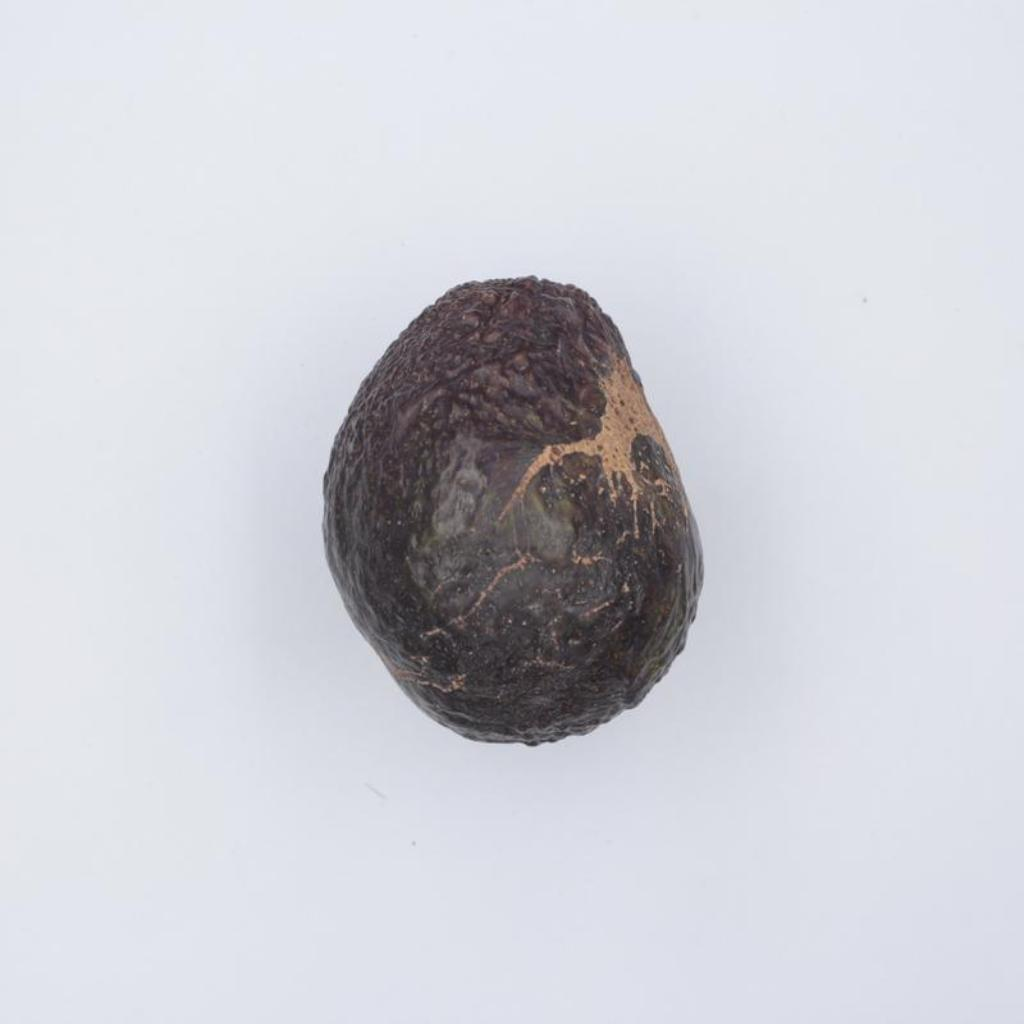rona: (324, 276, 701, 744)
